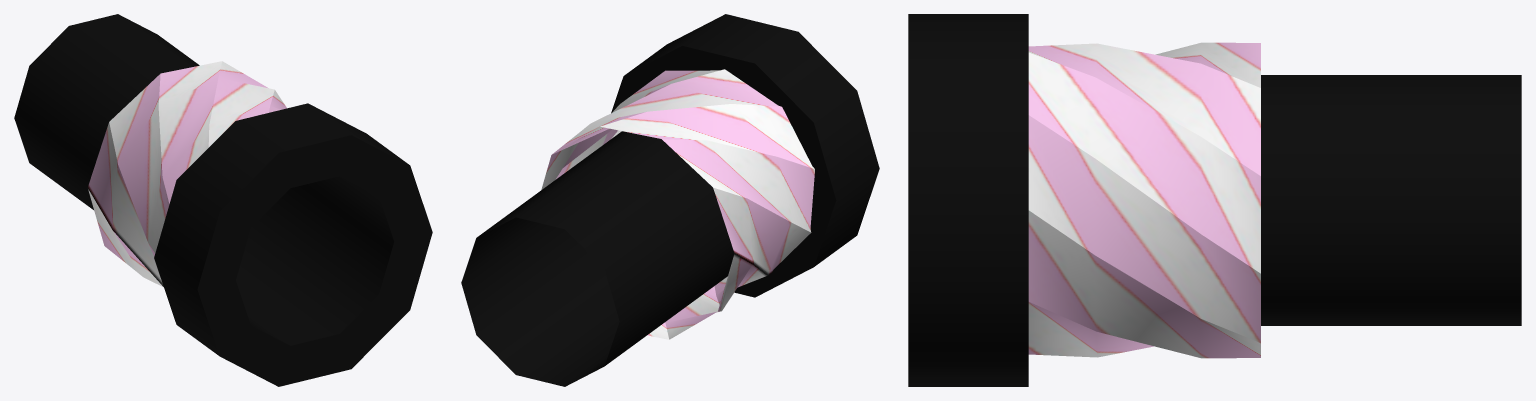
The model's file is SKM_Cannon.fbx.
3 renders of one model, left to right at view 1: azimuth 30°, elevation 25°; view 2: azimuth 150°, elevation 25°; view 3: azimuth 270°, elevation 25°, orthographic. The views are drawn at different scales.
Parts seen in each view (by area): view 1: SKM_Cannon; view 2: SKM_Cannon; view 3: SKM_Cannon.
Boxes of the visible parts, bbox=[...] form: SKM_Cannon: bbox=[14, 14, 432, 386]; SKM_Cannon: bbox=[461, 14, 879, 386]; SKM_Cannon: bbox=[908, 14, 1521, 386].
Size of the model in its own units: 0.8721 by 0.8294 by 1.42.
2 materials, 1 textured.
